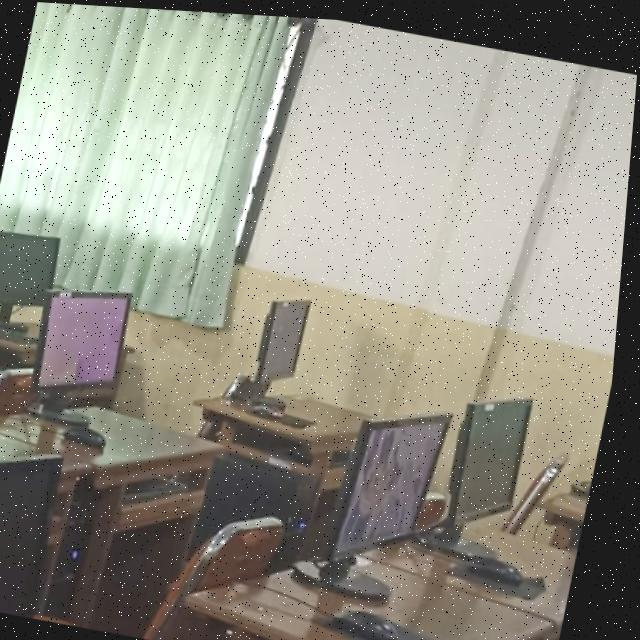offscreen: (456, 392, 538, 519), (0, 231, 63, 303), (261, 295, 314, 378)
onscreen: (335, 408, 458, 555), (40, 291, 134, 385)
